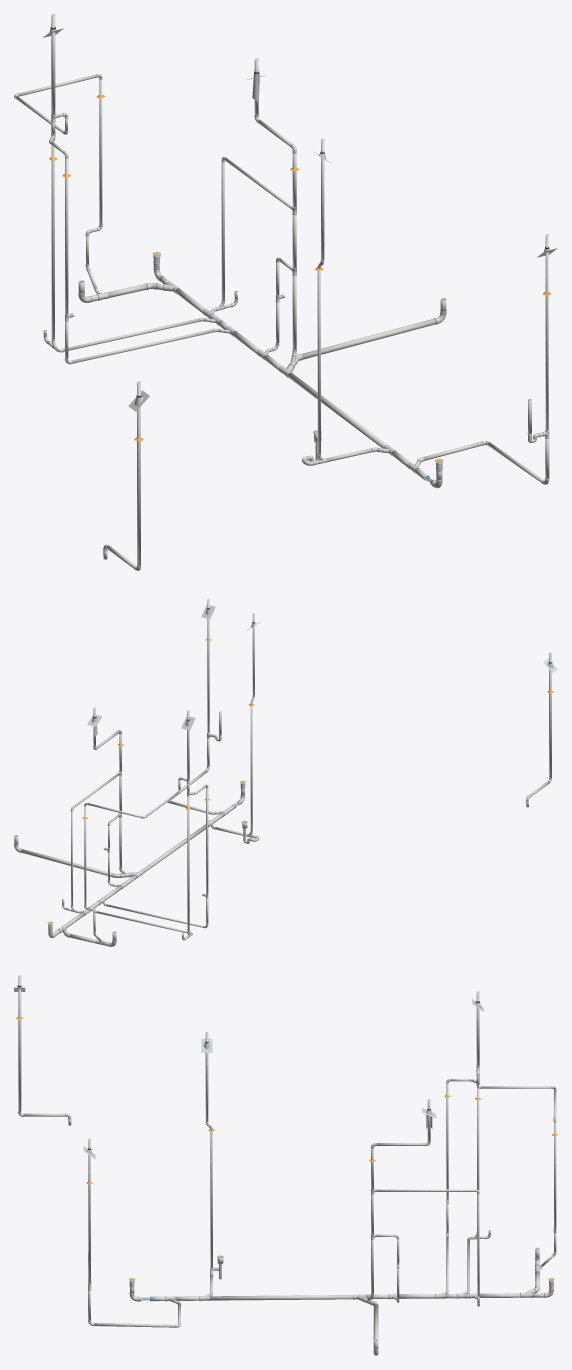
Rendered from slab_pipes_dwv__common.glb.
3 views of the same model, one above another, from view 1: azimuth 30°, elevation 25°; view 2: azimuth 150°, elevation 25°; view 3: azimuth 270°, elevation 25° (orthographic). The views are drawn at different scales.
Parts seen in each view (by area): view 1: pipe_dwv_building_drain, vent_dwv_hallbath_toilet, vent_dwv_master_stack, vent_dwv_floor_drain, pipe_dwv_master_toilet, vent_dwv_kitchen, pipe_dwv_laundry, vent_dwv_master_tub, pipe_dwv_hallbath_vanity, vent_dwv_hallbath_tub, vent_dwv_laundry, vent_dwv_hallbath_vanity (+1 smaller); view 2: pipe_dwv_building_drain, vent_dwv_hallbath_toilet, vent_dwv_floor_drain, vent_dwv_master_stack, pipe_dwv_master_toilet, vent_dwv_kitchen; view 3: pipe_dwv_building_drain, vent_dwv_hallbath_toilet, vent_dwv_kitchen, vent_dwv_master_stack, vent_dwv_floor_drain, vent_dwv_master_tub, pipe_dwv_laundry.
Part boxes in pixels (x1,y1,x2,y2): pipe_dwv_building_drain: [153, 264, 442, 488]; vent_dwv_hallbath_toilet: [14, 74, 102, 288]; vent_dwv_master_stack: [254, 58, 296, 356]; vent_dwv_floor_drain: [317, 138, 324, 454]; pipe_dwv_master_toilet: [289, 298, 446, 368]; vent_dwv_kitchen: [103, 381, 141, 570]; pipe_dwv_laundry: [416, 432, 549, 484]; vent_dwv_master_tub: [221, 156, 292, 300]; pipe_dwv_hallbath_vanity: [65, 321, 223, 364]; vent_dwv_hallbath_tub: [51, 141, 54, 339]; vent_dwv_laundry: [545, 234, 548, 430]; vent_dwv_hallbath_vanity: [49, 138, 68, 314]; pipe_dwv_building_drain: [48, 789, 245, 937]; vent_dwv_hallbath_toilet: [84, 777, 184, 941]; vent_dwv_floor_drain: [250, 613, 254, 831]; vent_dwv_master_stack: [93, 707, 123, 872]; pipe_dwv_master_toilet: [14, 835, 131, 877]; vent_dwv_kitchen: [526, 652, 551, 807]; pipe_dwv_building_drain: [129, 1287, 553, 1301]; vent_dwv_hallbath_toilet: [476, 1068, 556, 1266]; vent_dwv_kitchen: [18, 975, 71, 1125]; vent_dwv_master_stack: [370, 1099, 430, 1299]; vent_dwv_floor_drain: [205, 1032, 212, 1267]; vent_dwv_master_tub: [376, 1189, 479, 1296]; pipe_dwv_laundry: [88, 1283, 181, 1327].
Size of the model in its own units: 9.52 by 5.63 by 10.89.
